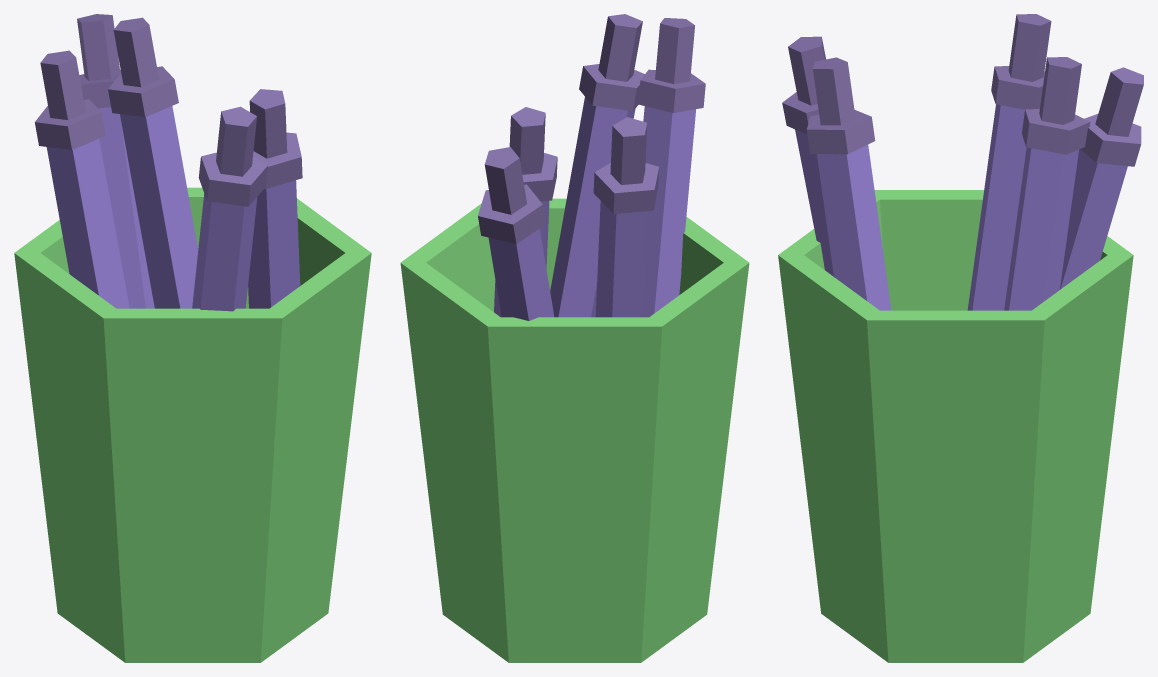
Rendered from pen cup.fbx.
3 renders of one model, left to right at view 1: azimuth 30°, elevation 25°; view 2: azimuth 150°, elevation 25°; view 3: azimuth 270°, elevation 25°, orthographic. The views are drawn at different scales.
Parts seen in each view (by area): view 1: CupWithPens; view 2: CupWithPens; view 3: CupWithPens.
Part boxes in pixels (<box>): CupWithPens: <box>14,14,371,662</box>; CupWithPens: <box>400,14,749,662</box>; CupWithPens: <box>778,14,1143,662</box>.
Size of the model in its own units: 30.21 by 60.38 by 35.89.
